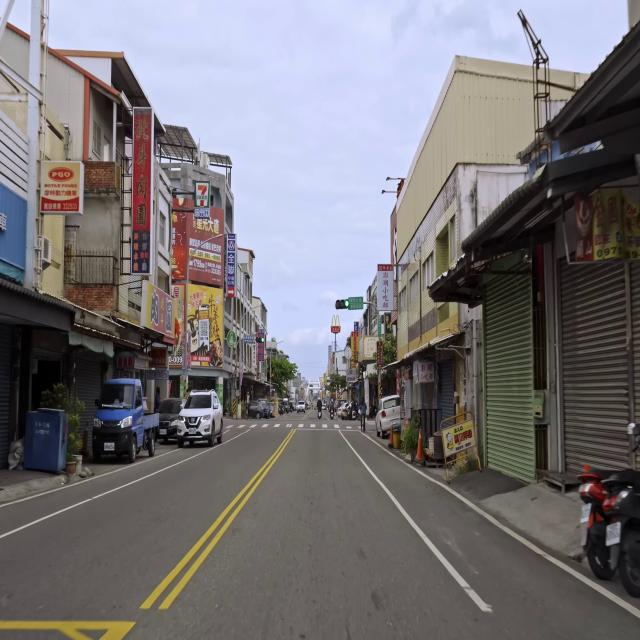green light: (335, 300, 349, 308), (256, 336, 264, 344)
